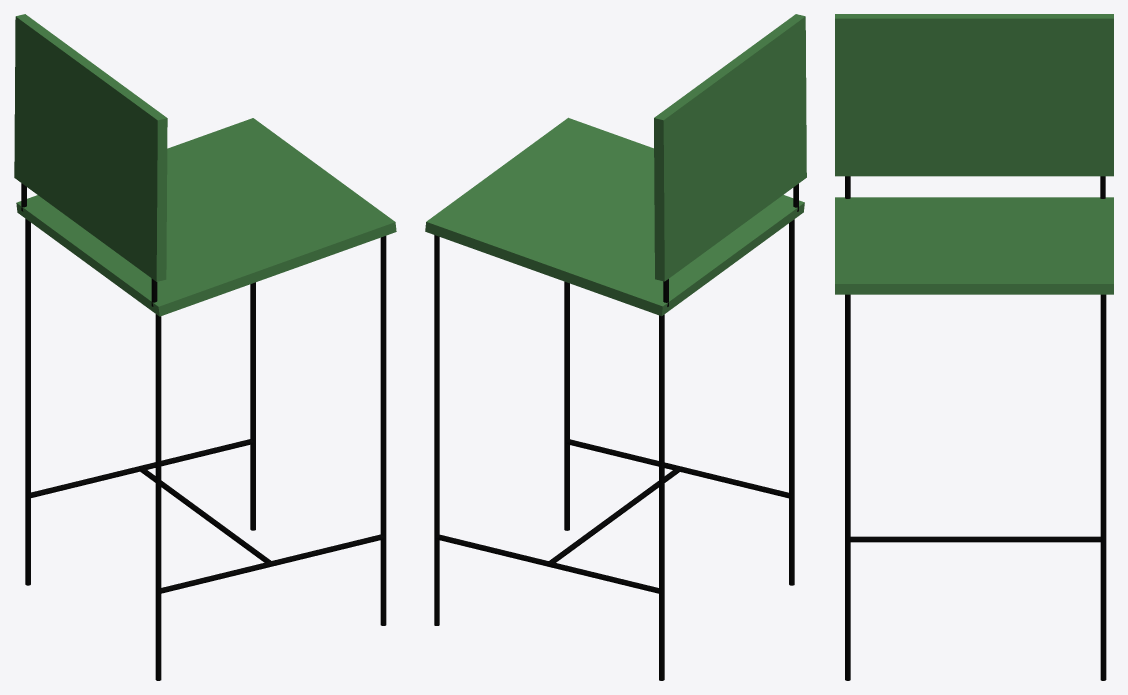
The model's file is stoel1.fbx.
The picture shows the model from 3 angles, left to right: view 1: azimuth 30°, elevation 25°; view 2: azimuth 150°, elevation 25°; view 3: azimuth 270°, elevation 25°; orthographic projection. The views are drawn at different scales.
Parts seen in each view (by area): view 1: pasted__pCube1, pasted__pasted__pCube1, pasted__pCylinder1 (×2), pCylinder1, pasted__pCylinder2 (×2), pasted__pasted__pCylinder1, pCylinder2; view 2: pasted__pCube1, pasted__pasted__pCube1, pasted__pCylinder1 (×2), pasted__pCylinder2 (×2), pasted__pasted__pCylinder1, pCylinder1, pCylinder2; view 3: pasted__pasted__pCube1, pasted__pCube1, pasted__pCylinder1, pCylinder1, pasted__pCylinder2.
Part boxes in pixels (x1,y1,x2,y2): pasted__pCube1: (16, 118, 396, 316); pasted__pasted__pCube1: (14, 14, 167, 281); pasted__pCylinder1 (×2): (155, 282, 255, 680); pCylinder1: (380, 236, 386, 625); pasted__pCylinder2 (×2): (30, 439, 270, 562); pasted__pasted__pCylinder1: (25, 218, 30, 585); pCylinder2: (160, 534, 384, 593); pasted__pCube1: (425, 117, 804, 316); pasted__pasted__pCube1: (654, 14, 806, 281); pasted__pCylinder1 (×2): (434, 219, 794, 625); pasted__pCylinder2 (×2): (436, 466, 680, 593); pasted__pasted__pCylinder1: (659, 314, 664, 680); pCylinder1: (564, 281, 569, 530); pCylinder2: (566, 439, 790, 498); pasted__pasted__pCube1: (835, 14, 1113, 176); pasted__pCube1: (835, 197, 1113, 294); pasted__pCylinder1: (1100, 294, 1106, 680); pCylinder1: (845, 294, 850, 680); pasted__pCylinder2: (850, 536, 1100, 542).
Size of the model in its own units: 98.1 by 221 by 101.
